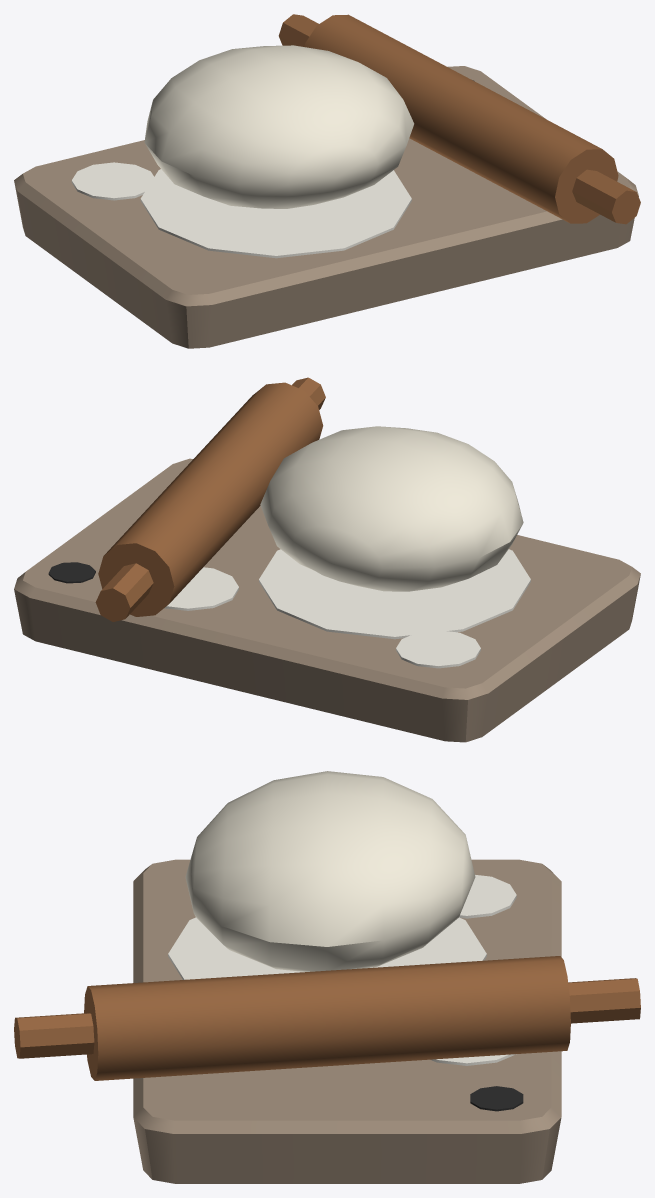
The model's file is cook_dough.glb.
3 renders of one model, top to bottom at view 1: azimuth 30°, elevation 25°; view 2: azimuth 150°, elevation 25°; view 3: azimuth 270°, elevation 25°, orthographic. The views are drawn at different scales.
Parts seen in each view (by area): view 1: body; view 2: body; view 3: body.
Part boxes in pixels (x1,y1,x2,y2): body: [14, 14, 640, 348]; body: [14, 377, 640, 742]; body: [14, 771, 640, 1183].
Size of the model in its own units: 0.064 by 0.025 by 0.063.
